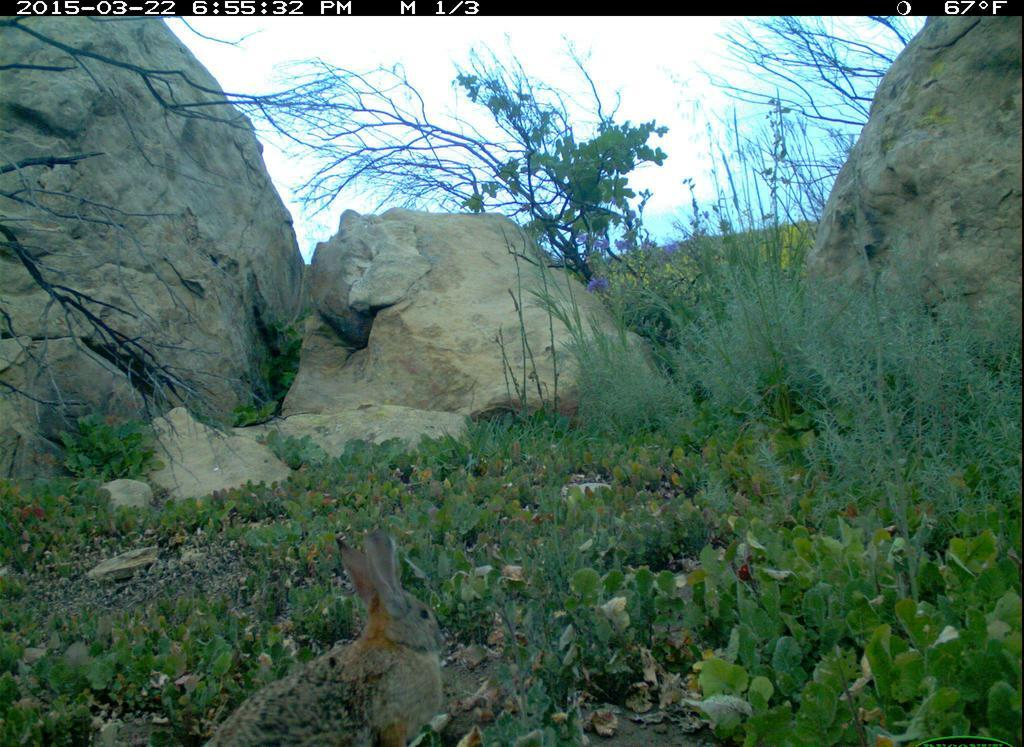rabbit: (198, 519, 456, 747)
